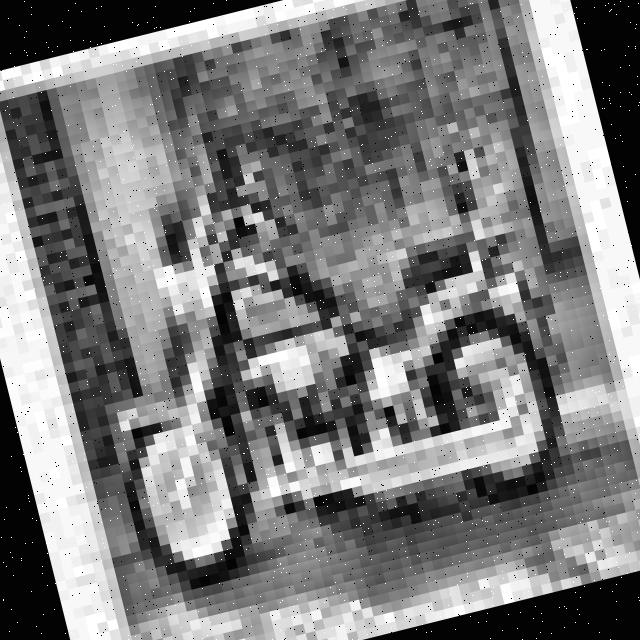mopeds: (56, 118, 600, 614)
